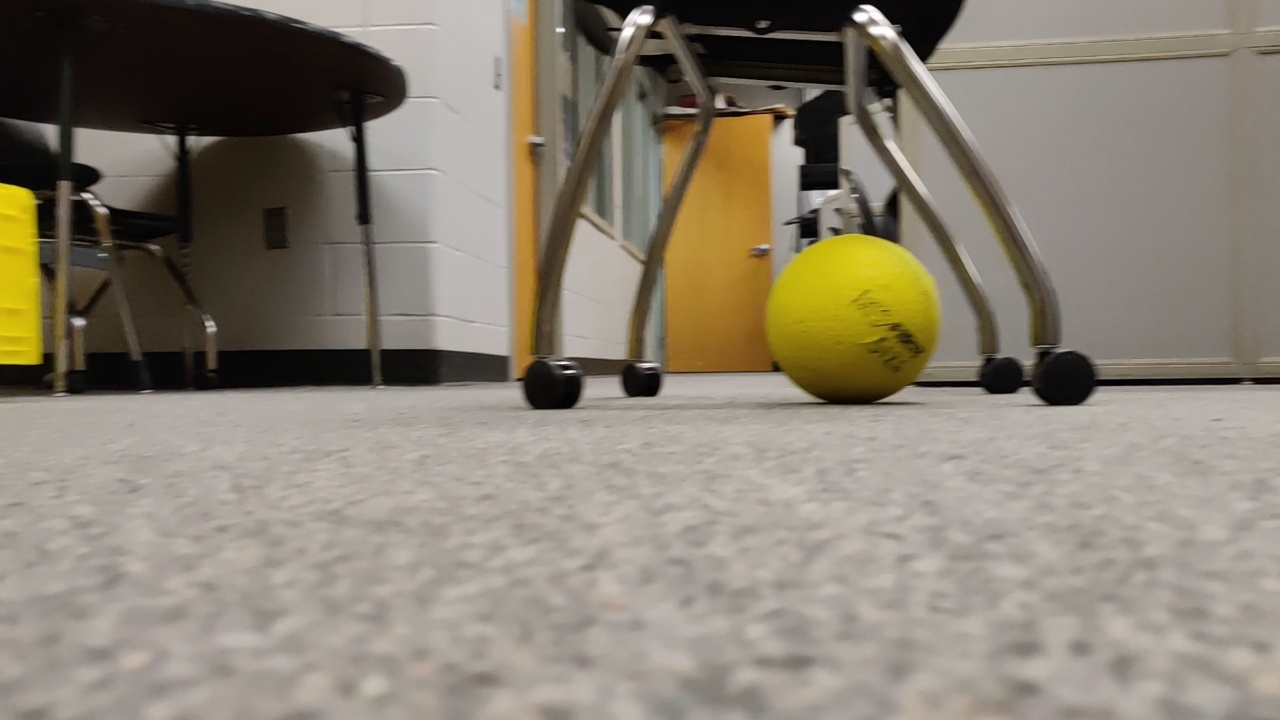Ball: (765, 226, 945, 397)
